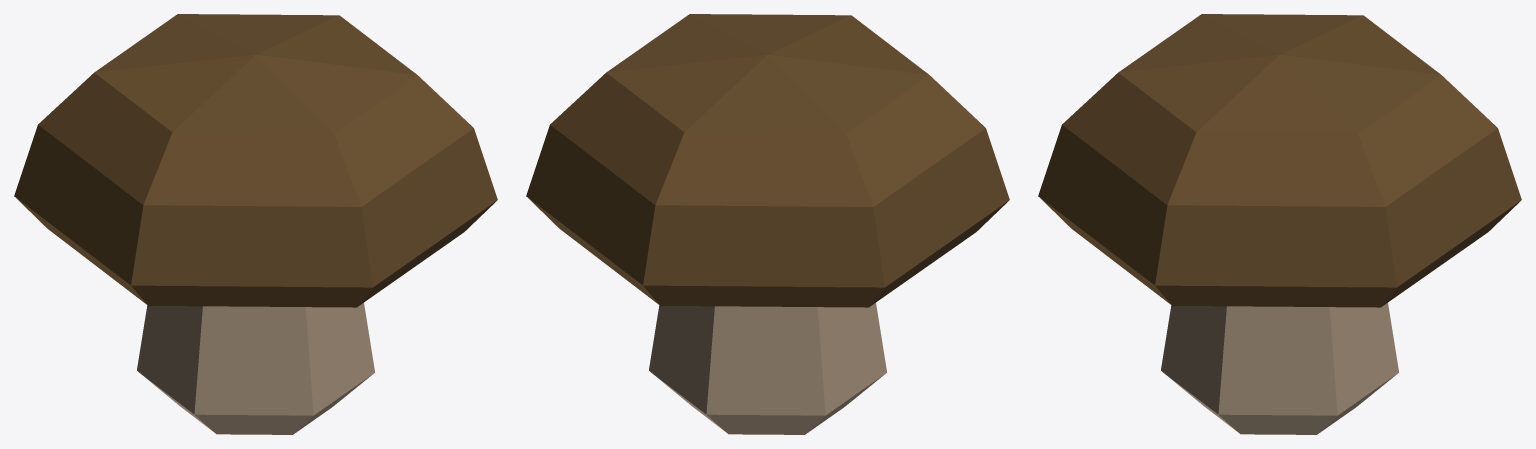
File: mushroom3.fbx
3 renders of one model, left to right at view 1: azimuth 30°, elevation 25°; view 2: azimuth 150°, elevation 25°; view 3: azimuth 270°, elevation 25°, orthographic.
Visible parts, largest first — view 1: mushroom3; view 2: mushroom3; view 3: mushroom3.
Part boxes in pixels (bbox=[...]): mushroom3: bbox=[14, 14, 497, 434]; mushroom3: bbox=[526, 14, 1009, 434]; mushroom3: bbox=[1038, 14, 1521, 434].
Bounding box in the file's own units: 9.87 × 9.05 × 11.27.
